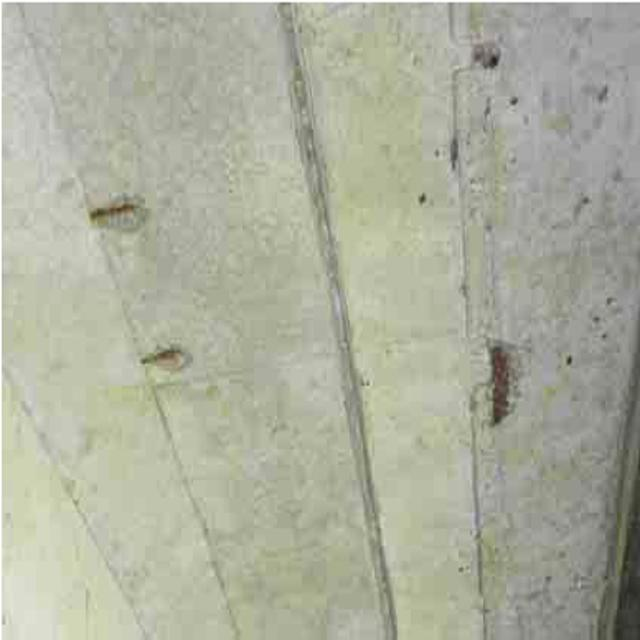spalling: (447, 25, 529, 152), (460, 327, 539, 429), (124, 294, 196, 390), (79, 186, 157, 246)
